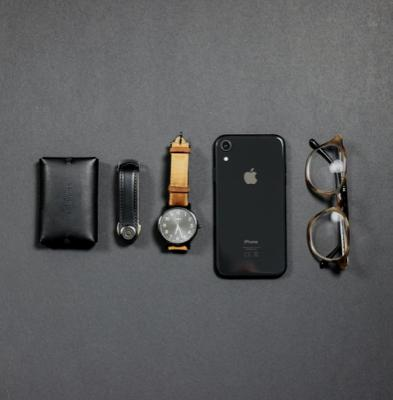cell-phone: (211, 128, 292, 283)
